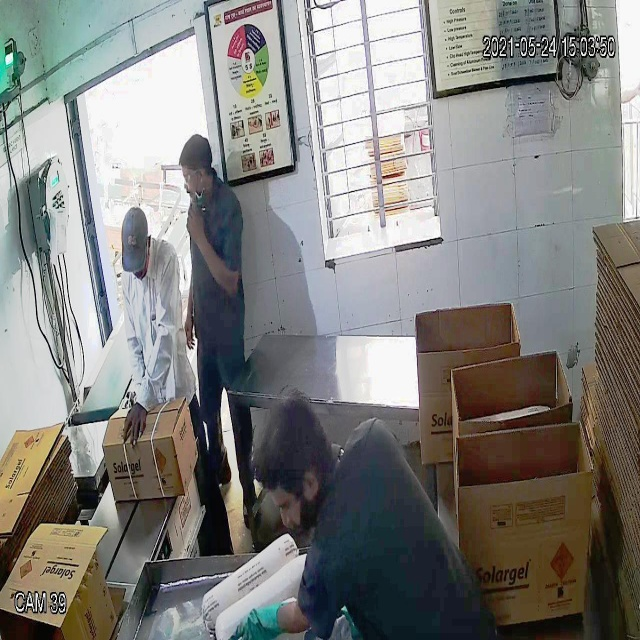Gafas: (180, 164, 213, 186)
